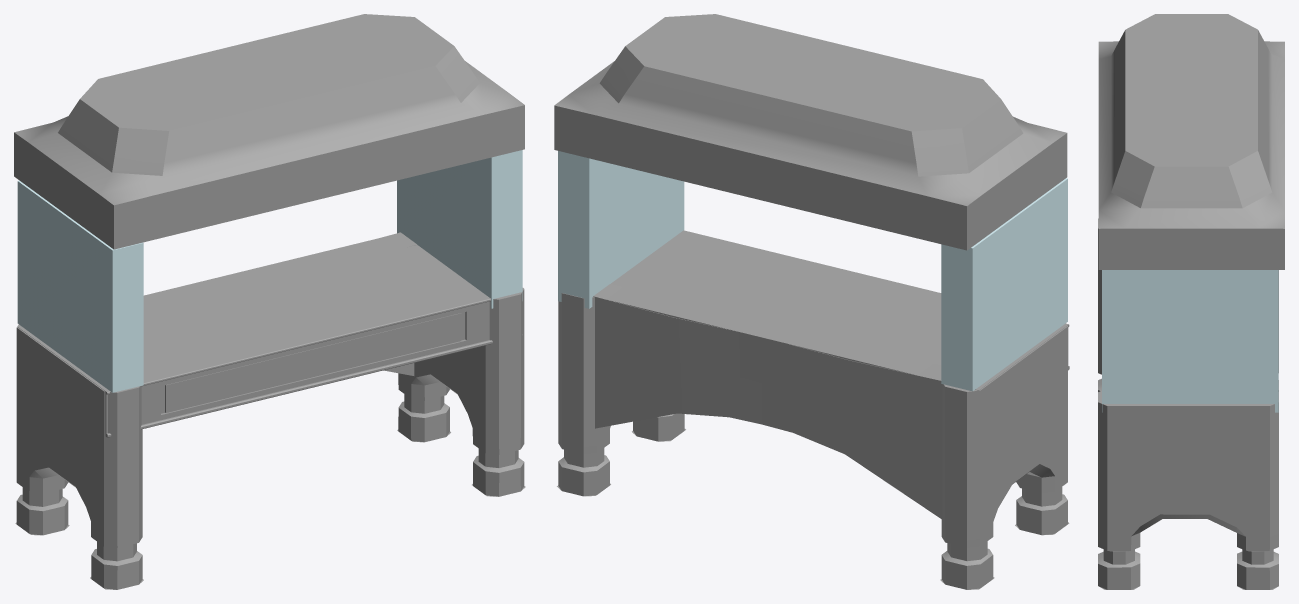
The model's file is Desk.fbx.
3 renders of one model, left to right at view 1: azimuth 30°, elevation 25°; view 2: azimuth 150°, elevation 25°; view 3: azimuth 270°, elevation 25°, orthographic. The views are drawn at different scales.
Parts seen in each view (by area): view 1: Shelf; view 2: Shelf; view 3: Shelf.
Boxes of the visible parts, x1,y1,x2,y2 form: Shelf: [14, 14, 525, 589]; Shelf: [554, 14, 1069, 589]; Shelf: [1098, 14, 1284, 589].
Size of the model in its own units: 82.95 by 81.44 by 34.2.
